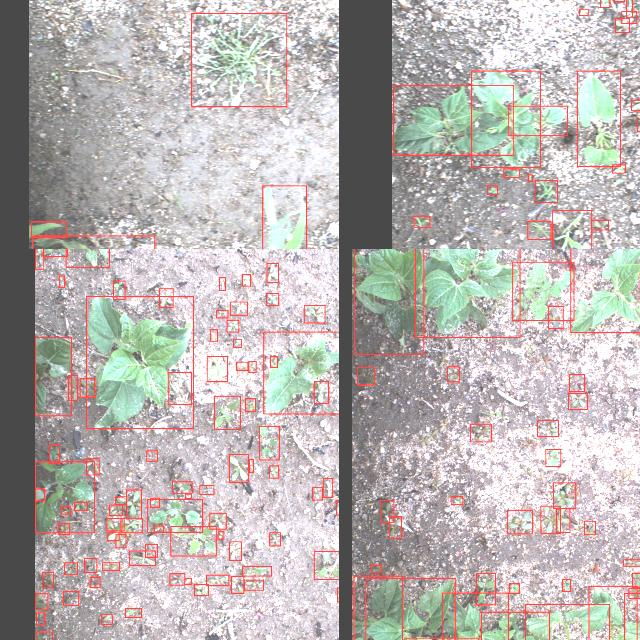crop: (86, 297, 194, 429), (414, 249, 519, 337), (392, 85, 514, 155), (354, 249, 424, 354), (472, 70, 540, 168), (263, 332, 339, 414), (571, 249, 640, 332), (365, 578, 455, 640), (36, 462, 94, 532), (578, 71, 620, 167), (353, 575, 402, 640), (442, 592, 508, 640), (525, 604, 609, 640), (35, 336, 71, 416), (263, 185, 307, 249), (589, 585, 637, 640), (508, 106, 568, 136), (32, 235, 154, 249), (30, 222, 66, 238), (206, 356, 228, 382), (34, 489, 44, 501)
weed: (191, 13, 287, 107), (512, 262, 574, 321), (481, 611, 549, 640), (147, 500, 203, 532), (552, 210, 591, 249), (170, 526, 216, 556), (214, 396, 240, 429), (65, 249, 109, 267), (167, 372, 191, 404), (314, 551, 339, 579), (259, 426, 279, 460), (476, 574, 496, 604), (508, 510, 532, 534), (554, 483, 576, 509), (541, 506, 561, 534), (230, 454, 248, 482), (535, 180, 557, 202), (129, 550, 155, 566), (528, 221, 550, 239), (126, 490, 140, 518), (471, 424, 492, 442), (304, 306, 326, 322), (548, 306, 564, 328), (556, 509, 570, 533), (356, 367, 374, 385), (538, 421, 558, 437), (568, 393, 588, 409), (314, 382, 328, 404), (120, 518, 142, 532), (380, 500, 394, 522), (388, 516, 402, 538), (242, 566, 272, 576), (159, 288, 173, 308), (80, 378, 94, 398), (206, 574, 228, 586), (210, 513, 226, 529), (106, 518, 124, 532), (570, 374, 584, 392), (113, 280, 125, 300), (546, 449, 560, 466), (85, 458, 98, 476), (230, 576, 243, 594), (62, 591, 78, 605), (34, 594, 48, 610), (267, 264, 279, 282), (230, 302, 248, 314), (229, 542, 241, 560), (172, 482, 192, 492), (323, 478, 333, 498), (244, 580, 264, 590), (615, 19, 629, 33), (413, 216, 429, 228), (68, 376, 76, 400), (447, 366, 459, 382), (34, 249, 43, 269), (49, 445, 59, 463), (42, 249, 67, 256), (622, 11, 636, 23), (266, 293, 280, 305), (108, 504, 122, 516), (64, 563, 78, 575), (84, 558, 96, 572), (145, 544, 157, 558), (194, 584, 208, 596), (584, 521, 596, 535), (592, 220, 608, 230), (125, 608, 141, 618), (42, 572, 52, 588), (227, 320, 239, 332), (102, 562, 120, 570), (36, 631, 52, 640), (504, 168, 518, 178), (245, 398, 255, 412), (116, 534, 126, 548), (170, 574, 184, 584), (270, 532, 280, 546), (146, 451, 158, 461), (312, 488, 322, 500), (100, 615, 112, 625), (628, 588, 640, 598), (612, 165, 626, 173), (200, 486, 214, 494), (627, 0, 633, 18), (74, 502, 86, 511), (623, 560, 640, 566), (58, 524, 68, 534), (90, 577, 100, 587), (509, 583, 519, 593), (631, 99, 640, 110), (633, 573, 640, 587), (242, 274, 250, 286), (236, 362, 248, 370), (216, 310, 228, 318), (114, 496, 126, 504), (270, 466, 278, 478), (36, 613, 44, 625), (451, 497, 463, 505), (563, 579, 571, 591), (270, 357, 278, 368), (108, 533, 119, 541), (487, 186, 497, 194), (600, 0, 610, 8), (248, 362, 256, 372), (210, 330, 218, 340), (60, 506, 70, 514), (150, 498, 158, 508), (371, 565, 381, 573), (219, 278, 225, 290), (58, 276, 64, 288), (233, 339, 241, 347), (154, 526, 164, 532), (580, 8, 588, 15), (218, 531, 224, 539), (249, 460, 253, 472), (336, 499, 339, 514), (637, 119, 640, 131), (185, 578, 191, 584), (528, 174, 532, 182), (185, 494, 191, 498)
